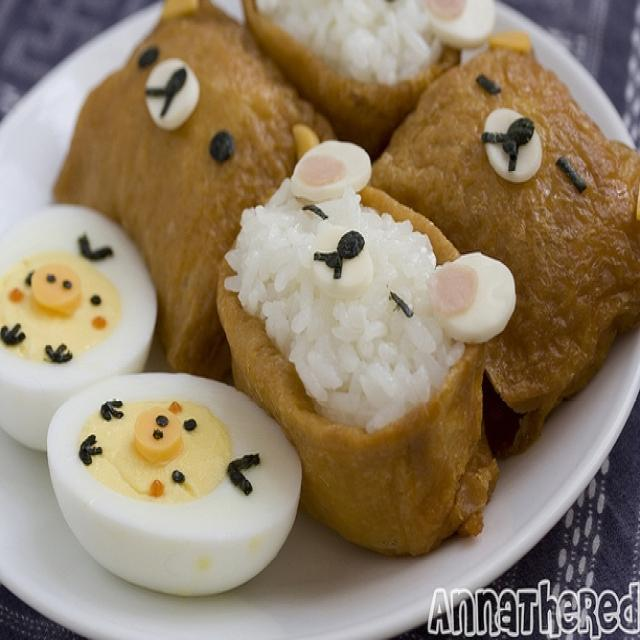寿司卷物: (25, 5, 634, 588)
